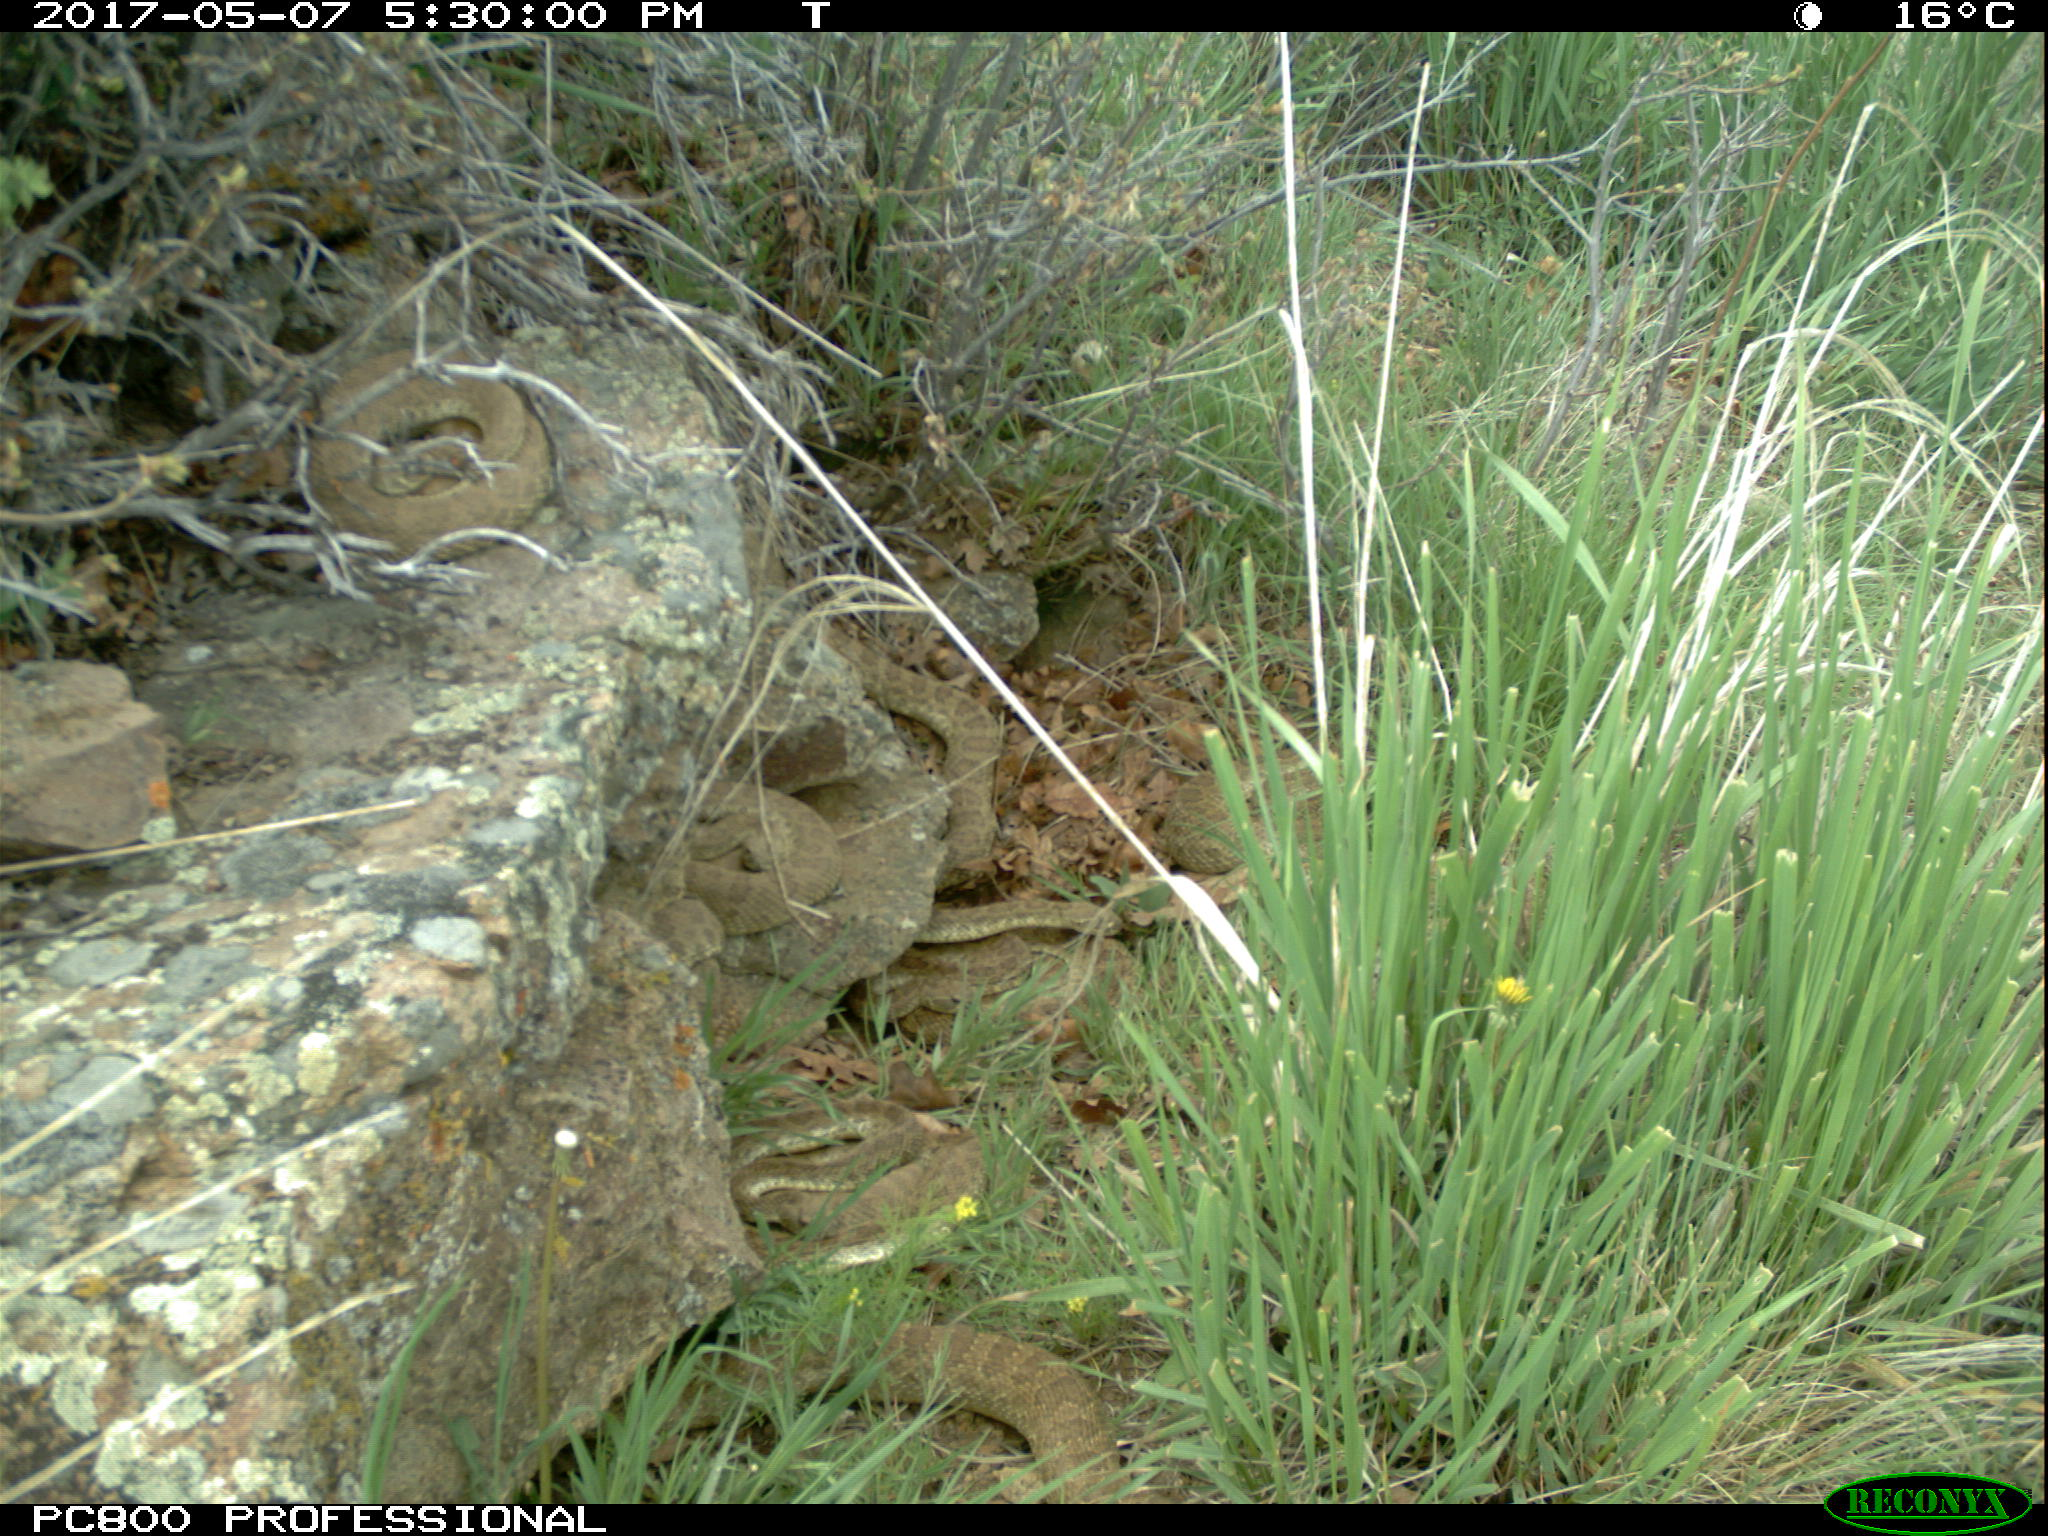snake: (692, 1320, 1135, 1504), (310, 334, 561, 552), (813, 615, 1008, 886), (734, 1096, 998, 1254), (681, 766, 850, 936), (1156, 737, 1342, 878), (916, 887, 1137, 952)
